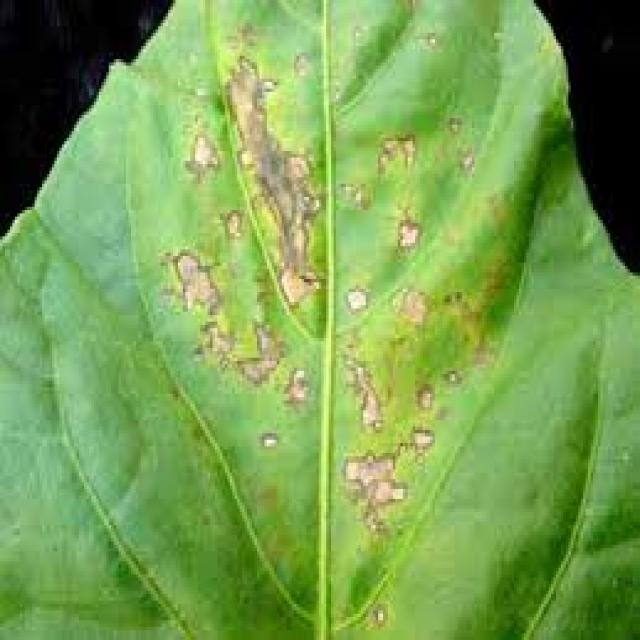bercak_daun: (115, 0, 606, 569)
